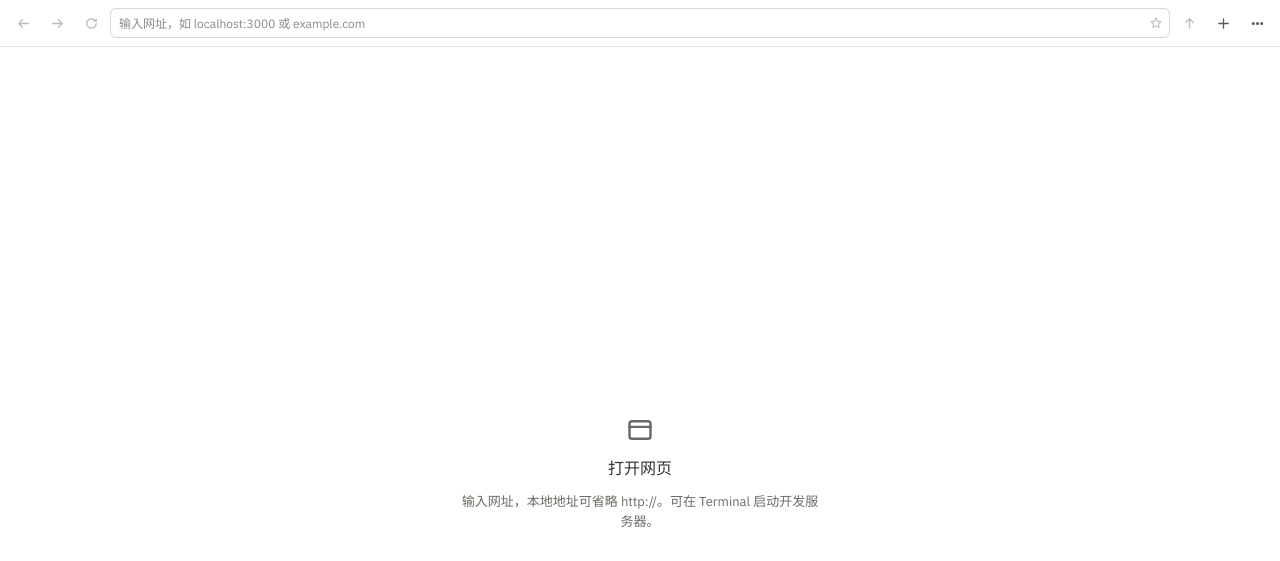
Scenario: ignores another Project or generation and reports rejected input with an editable address
The image size is (1280, 561).
Expected: the heading "打开网页" is shown, top-left (608, 456), bottom-right (672, 480)
Type "file:///tmp/private" into the dropdown labelled "网址" at (640, 23), box top-left (110, 8), bottom-right (1170, 38)
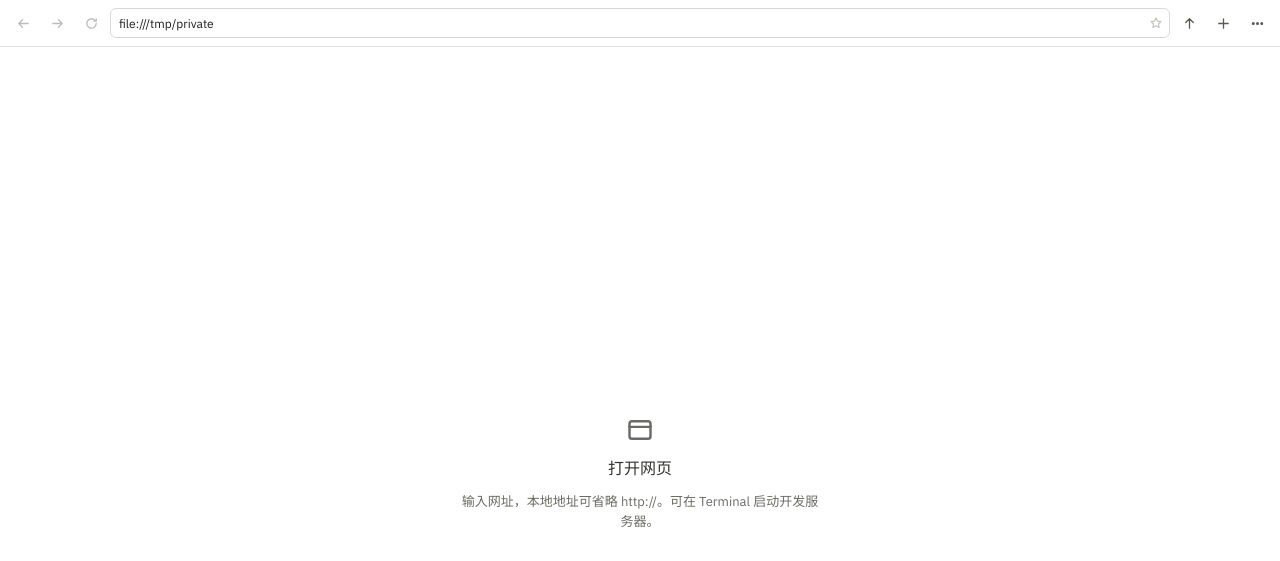
Submit the form, box top-left (0, 0), bottom-right (1279, 47)
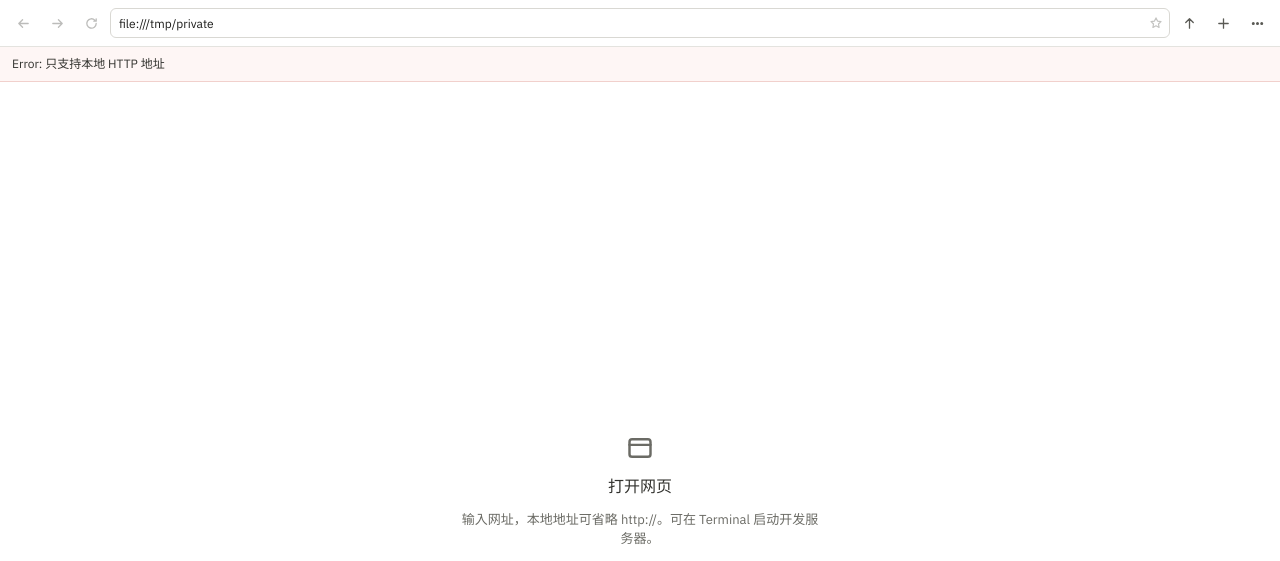
Expected: the dropdown named "网址" is enabled, top-left (110, 8), bottom-right (1170, 38)
Expected: the text "Error: 只支持本地 HTTP 地址" is shown, top-left (0, 47), bottom-right (1279, 82)
